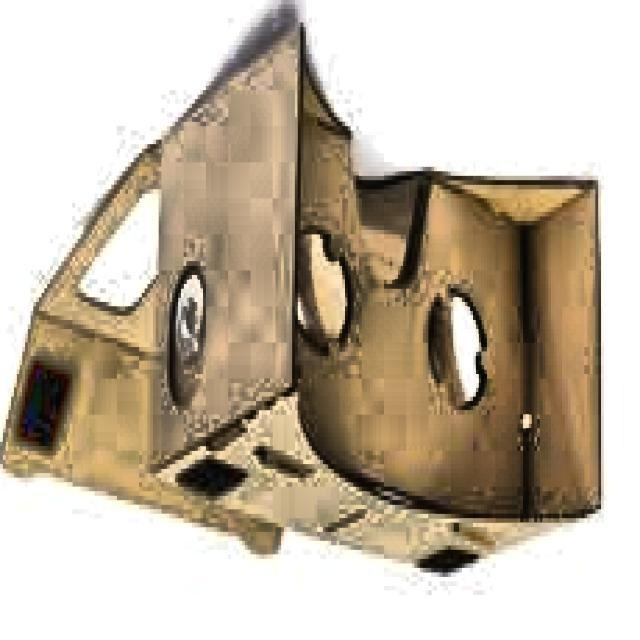cardboard: (0, 22, 601, 582)
